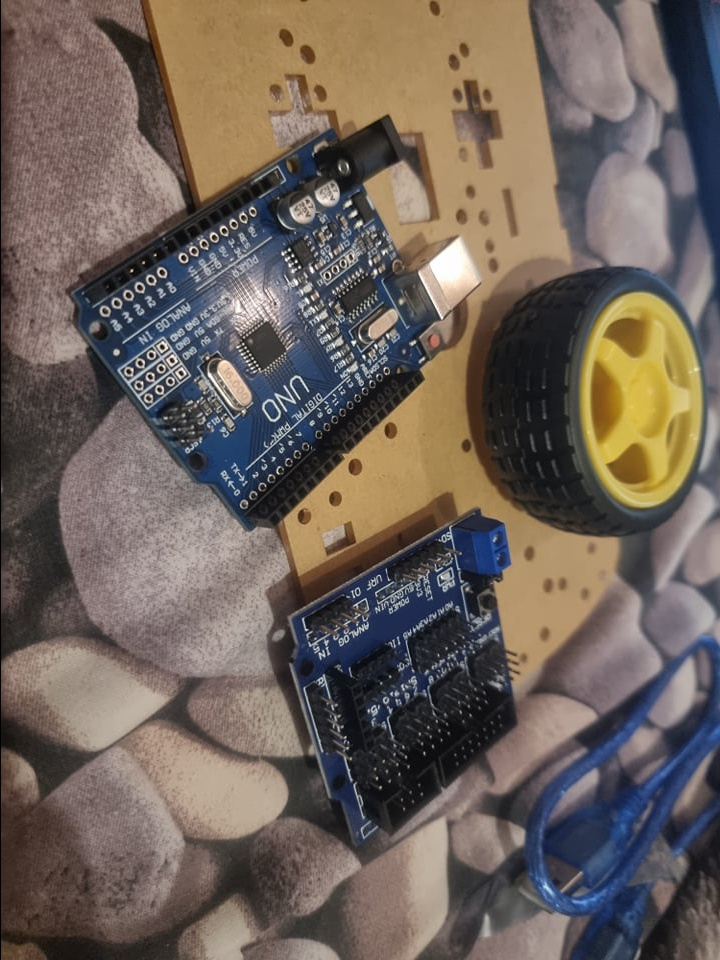5V EXPANSION: (282, 509, 520, 854)
UNO R3: (75, 118, 482, 531)
